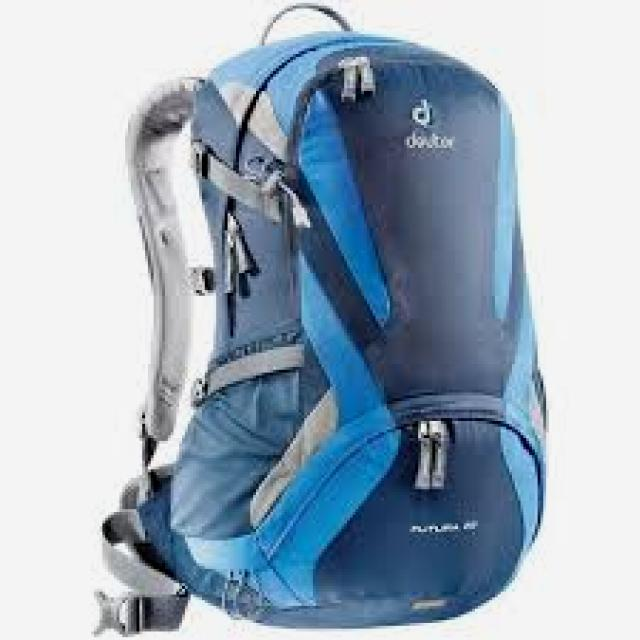backpack: (97, 1, 550, 632)
